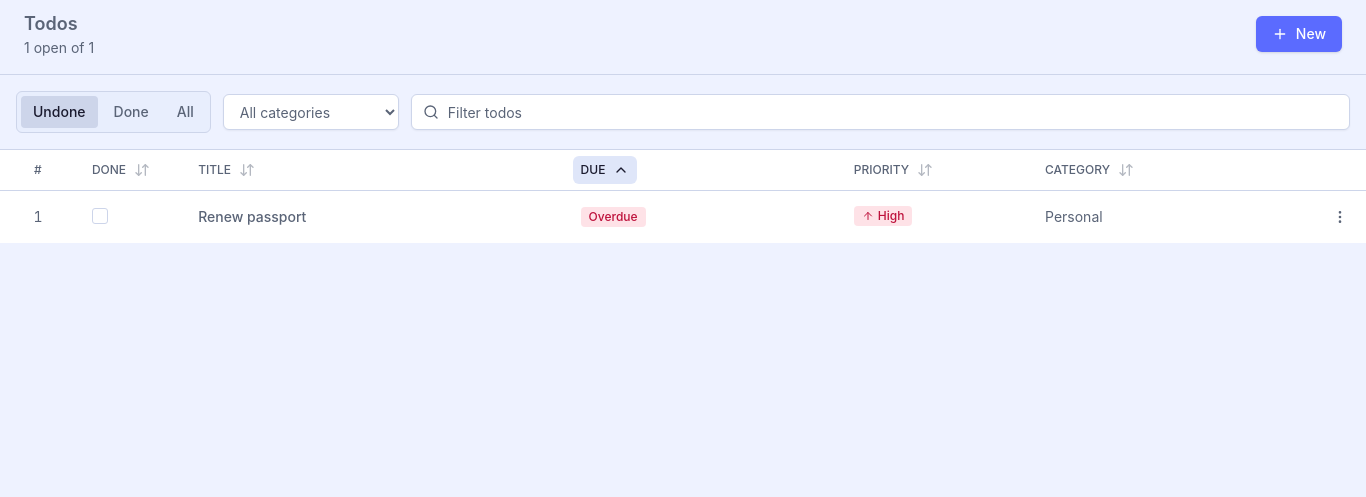
Test: TodosListView › shows an empty Done state when nothing is completed
The width and height of the screenshot is (1366, 497).
Click the radio button labelled "Done": (131, 112) [102,96,161,128]
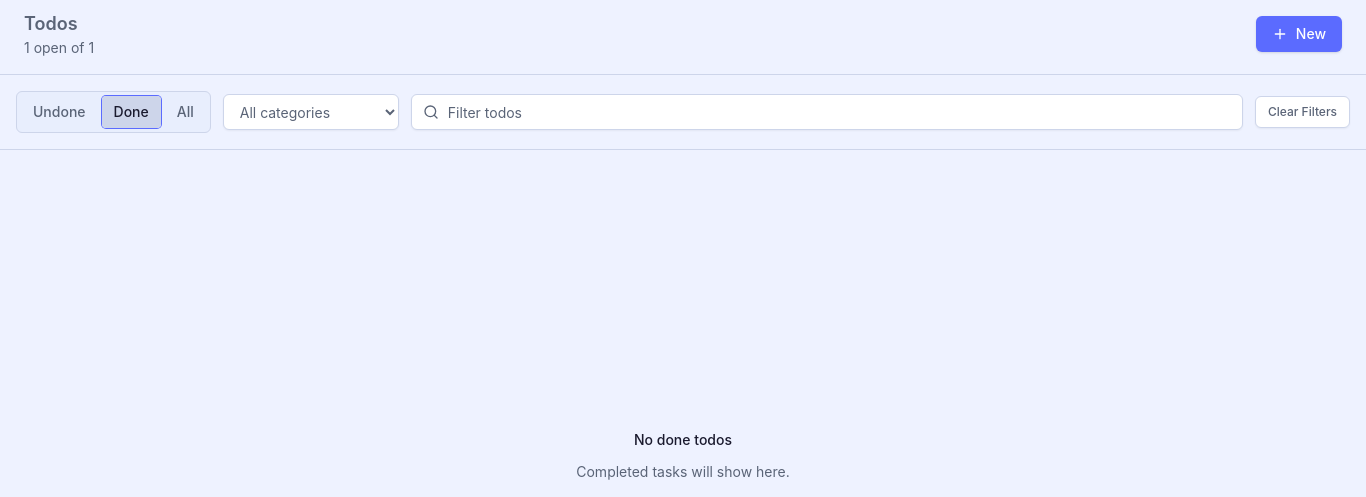
Result: the text "No done todos" is shown at [634,430,732,450]
